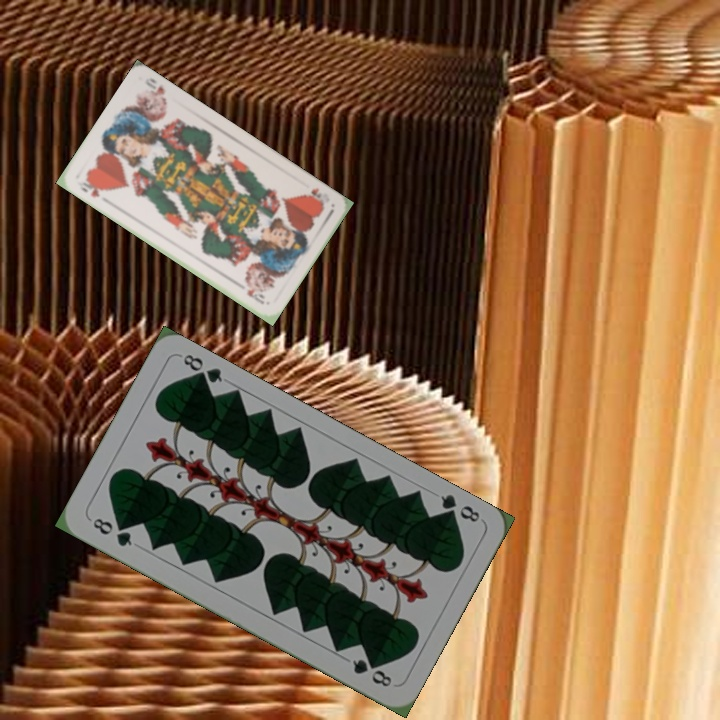G8: (86, 514, 135, 550), (436, 490, 483, 525)
HO: (75, 175, 105, 200), (300, 183, 327, 210)
